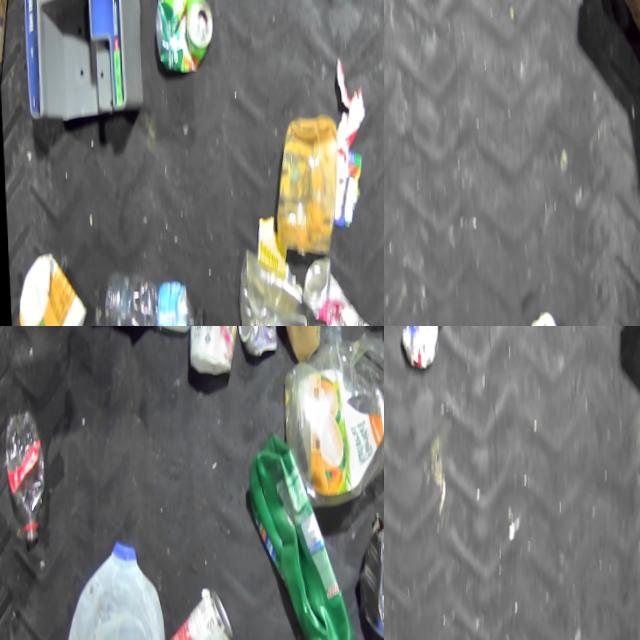can: (296, 254, 370, 326), (150, 0, 213, 81), (163, 588, 235, 640), (395, 326, 449, 378), (232, 326, 277, 370)
milk_jug: (58, 537, 169, 640)
non_white_jug: (242, 427, 363, 640), (280, 327, 384, 516)
plastic_bottle: (95, 261, 206, 326), (0, 408, 47, 547), (0, 0, 16, 89)
